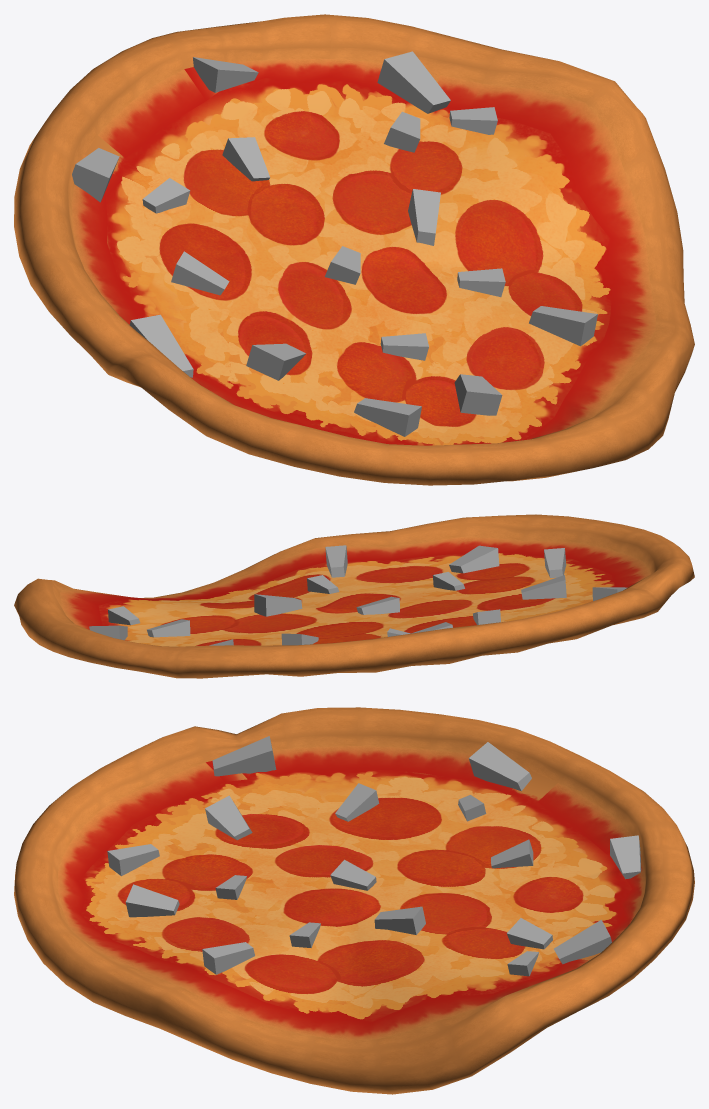
3 views of the same model, one above another, from view 1: azimuth 30°, elevation 25°; view 2: azimuth 150°, elevation 25°; view 3: azimuth 270°, elevation 25° (orthographic). The views are drawn at different scales.
Visible parts, largest first — view 1: pizzahires, pCube10, pCube4, pCube11, pCube18, pCube6, pCube13, pCube3, pCube14, pCube5, pCube2, pCube8 (+6 smaller); view 2: pizzahires, pCube6, pCube5, pCube3, pCube4, pCube9, pCube11, pCube15, pCube16, pCube12, pCube7, pCube10 (+3 smaller); view 3: pizzahires, pCube18, pCube13, pCube10, pCube6, pCube3, pCube4, pCube5, pCube14, pCube11, pCube2, pCube9 (+2 smaller).
Part boxes in pixels (<box>): pizzahires: <box>14,14,694,485</box>; pCube10: <box>377,51,450,113</box>; pCube4: <box>529,306,597,346</box>; pCube11: <box>354,398,421,436</box>; pCube18: <box>72,148,119,202</box>; pCube6: <box>454,374,502,415</box>; pCube13: <box>129,314,193,377</box>; pCube3: <box>246,343,305,380</box>; pCube14: <box>193,57,258,92</box>; pCube5: <box>408,189,440,245</box>; pCube2: <box>171,251,229,295</box>; pCube8: <box>222,137,270,181</box>; pizzahires: <box>14,514,694,678</box>; pCube6: <box>449,545,499,573</box>; pCube5: <box>254,594,302,616</box>; pCube3: <box>521,575,566,599</box>; pCube4: <box>325,545,347,577</box>; pCube9: <box>147,619,190,637</box>; pCube11: <box>544,548,566,577</box>; pCube15: <box>356,596,399,614</box>; pCube16: <box>307,575,339,593</box>; pCube12: <box>108,606,140,625</box>; pCube7: <box>432,572,464,590</box>; pCube10: <box>89,625,127,640</box>; pizzahires: <box>14,707,694,1094</box>; pCube18: <box>468,742,531,791</box>; pCube13: <box>212,736,276,776</box>; pCube10: <box>554,919,611,964</box>; pCube6: <box>125,884,179,917</box>; pCube3: <box>205,795,252,840</box>; pCube4: <box>202,942,254,974</box>; pCube5: <box>374,906,425,934</box>; pCube14: <box>610,835,641,879</box>; pCube11: <box>107,844,159,876</box>; pCube2: <box>335,783,379,821</box>; pCube9: <box>506,918,552,949</box>.
Size of the model in its own units: 2.82 by 0.7725 by 2.99.
2 materials, 1 textured.
